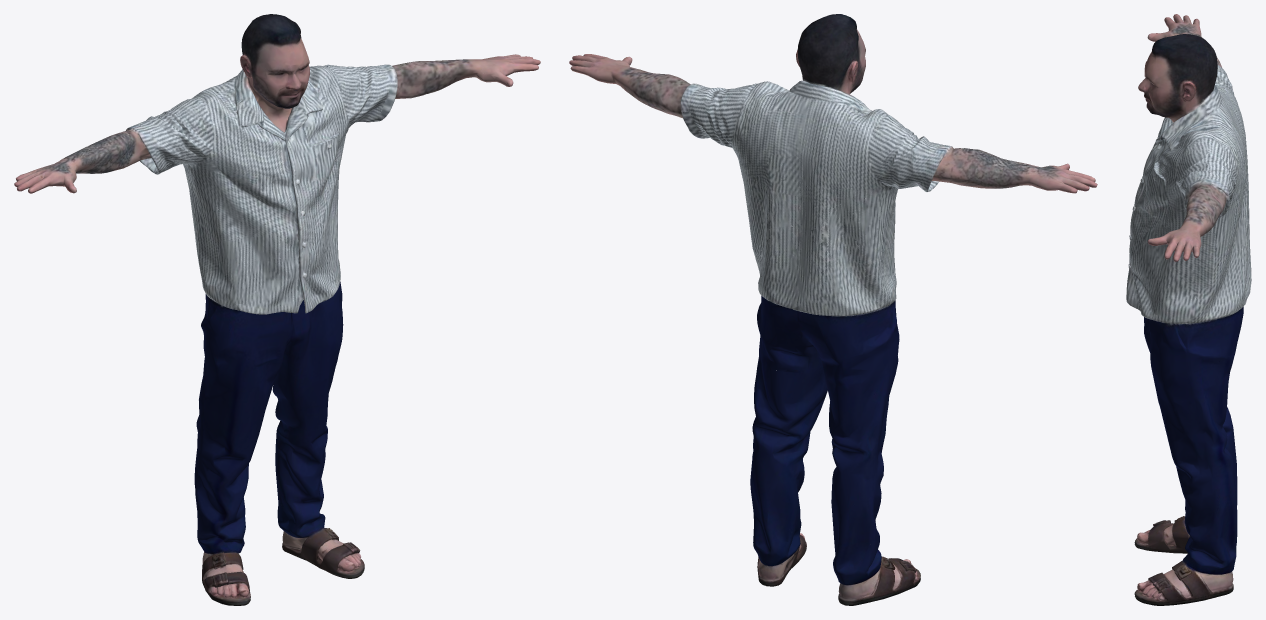
The model's file is james.glb.
3 renders of one model, left to right at view 1: azimuth 30°, elevation 25°; view 2: azimuth 150°, elevation 25°; view 3: azimuth 270°, elevation 25°, orthographic. The views are drawn at different scales.
Visible parts, largest first — view 1: model; view 2: model; view 3: model.
Part boxes in pixels (x1,y1,x2,y2): model: [14, 14, 540, 605]; model: [569, 14, 1097, 605]; model: [1126, 14, 1251, 605].
Size of the model in its own units: 0.963 by 0.9802 by 0.2074.
1 material, 1 textured.
